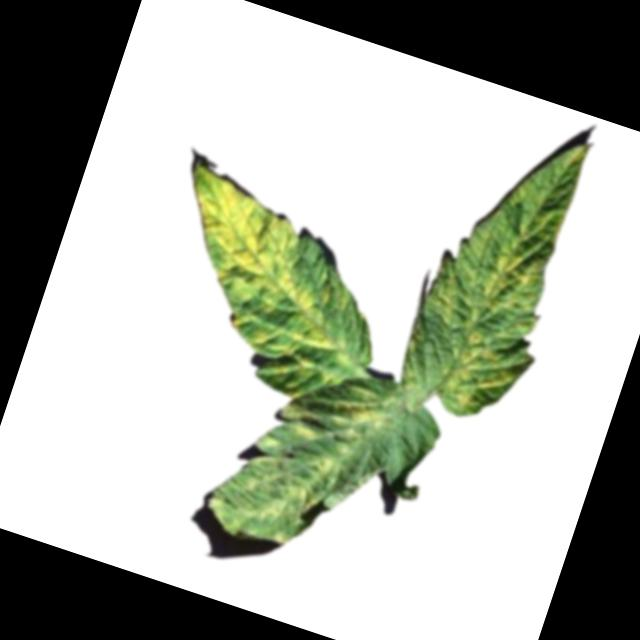Leaf_Mold: (131, 153, 407, 412), (386, 105, 602, 433), (203, 353, 397, 570)
